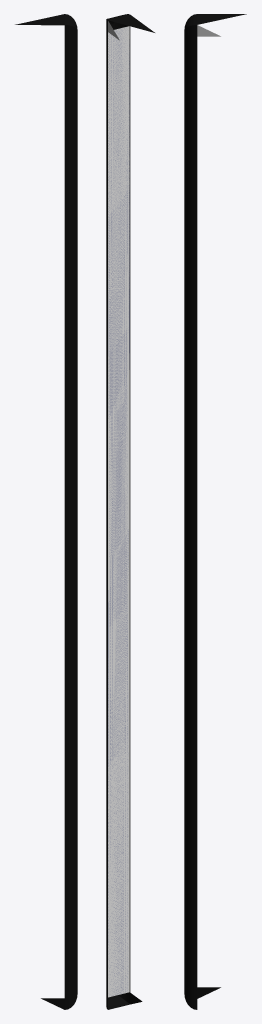
3 renders of one model, left to right at view 1: azimuth 90°, elevation 25°; view 2: azimuth 210°, elevation 25°; view 3: azimuth 270°, elevation 25°, orthographic.
Bounding box in the file's own units: 0.0397 × 1.67 × 0.0972.
5 materials, 1 textured.
